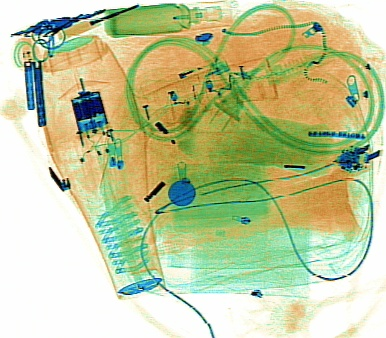lighter: (139, 53, 230, 102)
